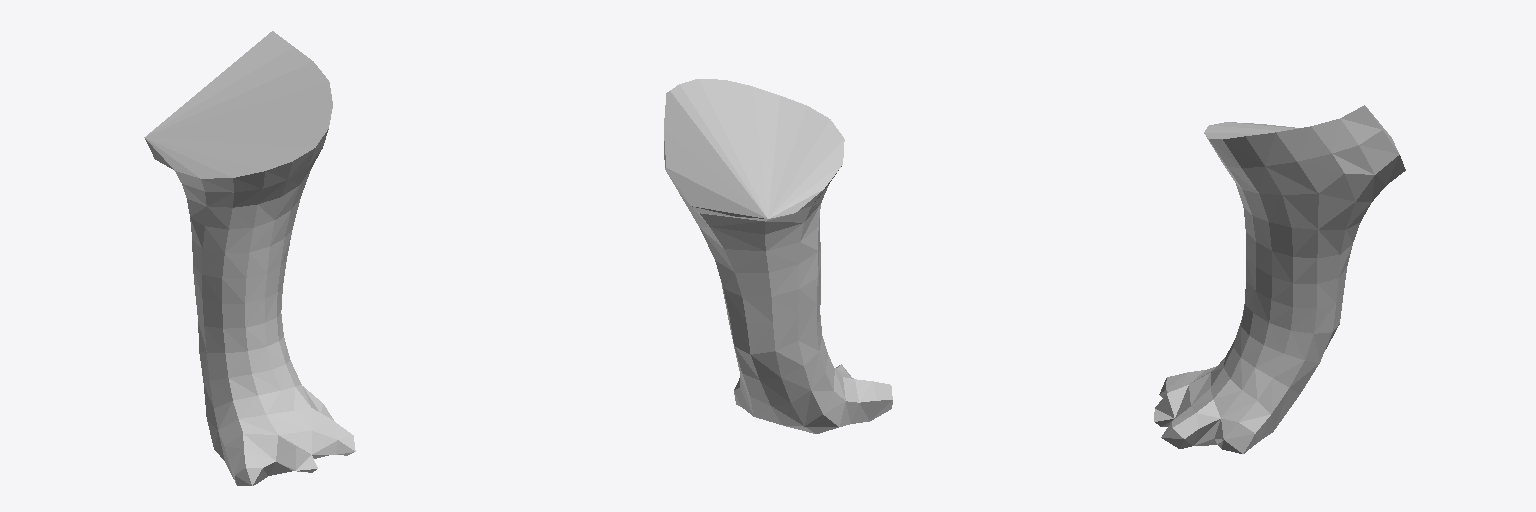
Rendered from piernaDI.obj.
3 views of the same model, side by side, from view 1: azimuth 30°, elevation 25°; view 2: azimuth 150°, elevation 25°; view 3: azimuth 270°, elevation 25° (orthographic).
Parts seen in each view (by area): view 1: polySurface8 polySurface1; view 2: polySurface8 polySurface1; view 3: polySurface8 polySurface1.
Part boxes in pixels (x1,y1,x2,y2): polySurface8 polySurface1: (144,31,355,485); polySurface8 polySurface1: (664,79,892,433); polySurface8 polySurface1: (1154,105,1405,453).
Bounding box in the file's own units: 0.123 × 0.2891 × 0.1835.